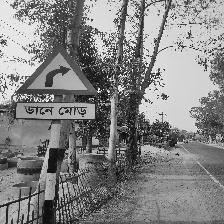Right-turn: (14, 44, 100, 123)
